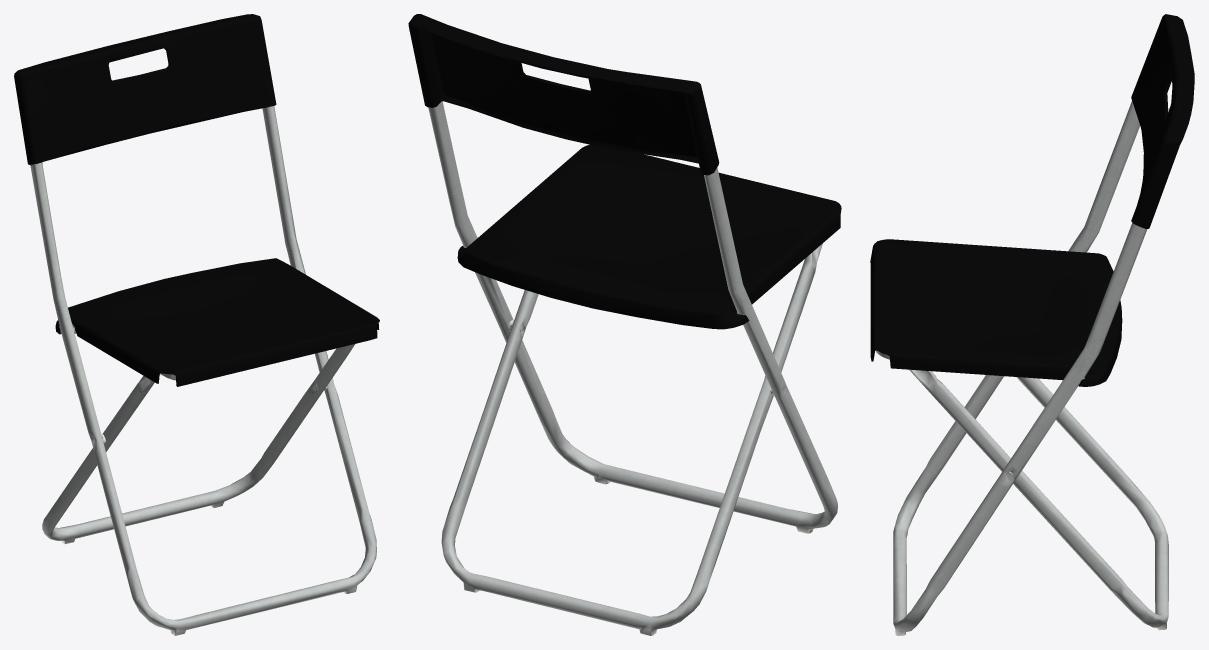
The model's file is GUNDE_00217797.glb.
3 renders of one model, left to right at view 1: azimuth 30°, elevation 25°; view 2: azimuth 150°, elevation 25°; view 3: azimuth 270°, elevation 25°, orthographic. The views are drawn at different scales.
Parts seen in each view (by area): view 1: ProcessedMeshNode; view 2: ProcessedMeshNode; view 3: ProcessedMeshNode.
Part boxes in pixels (left/top/right/bottom): ProcessedMeshNode: left=14, top=14, right=379, bottom=635; ProcessedMeshNode: left=408, top=14, right=841, bottom=635; ProcessedMeshNode: left=870, top=14, right=1194, bottom=635.
Size of the model in its own units: 0.4201 by 0.786 by 0.4496.
1 material, 1 textured.
